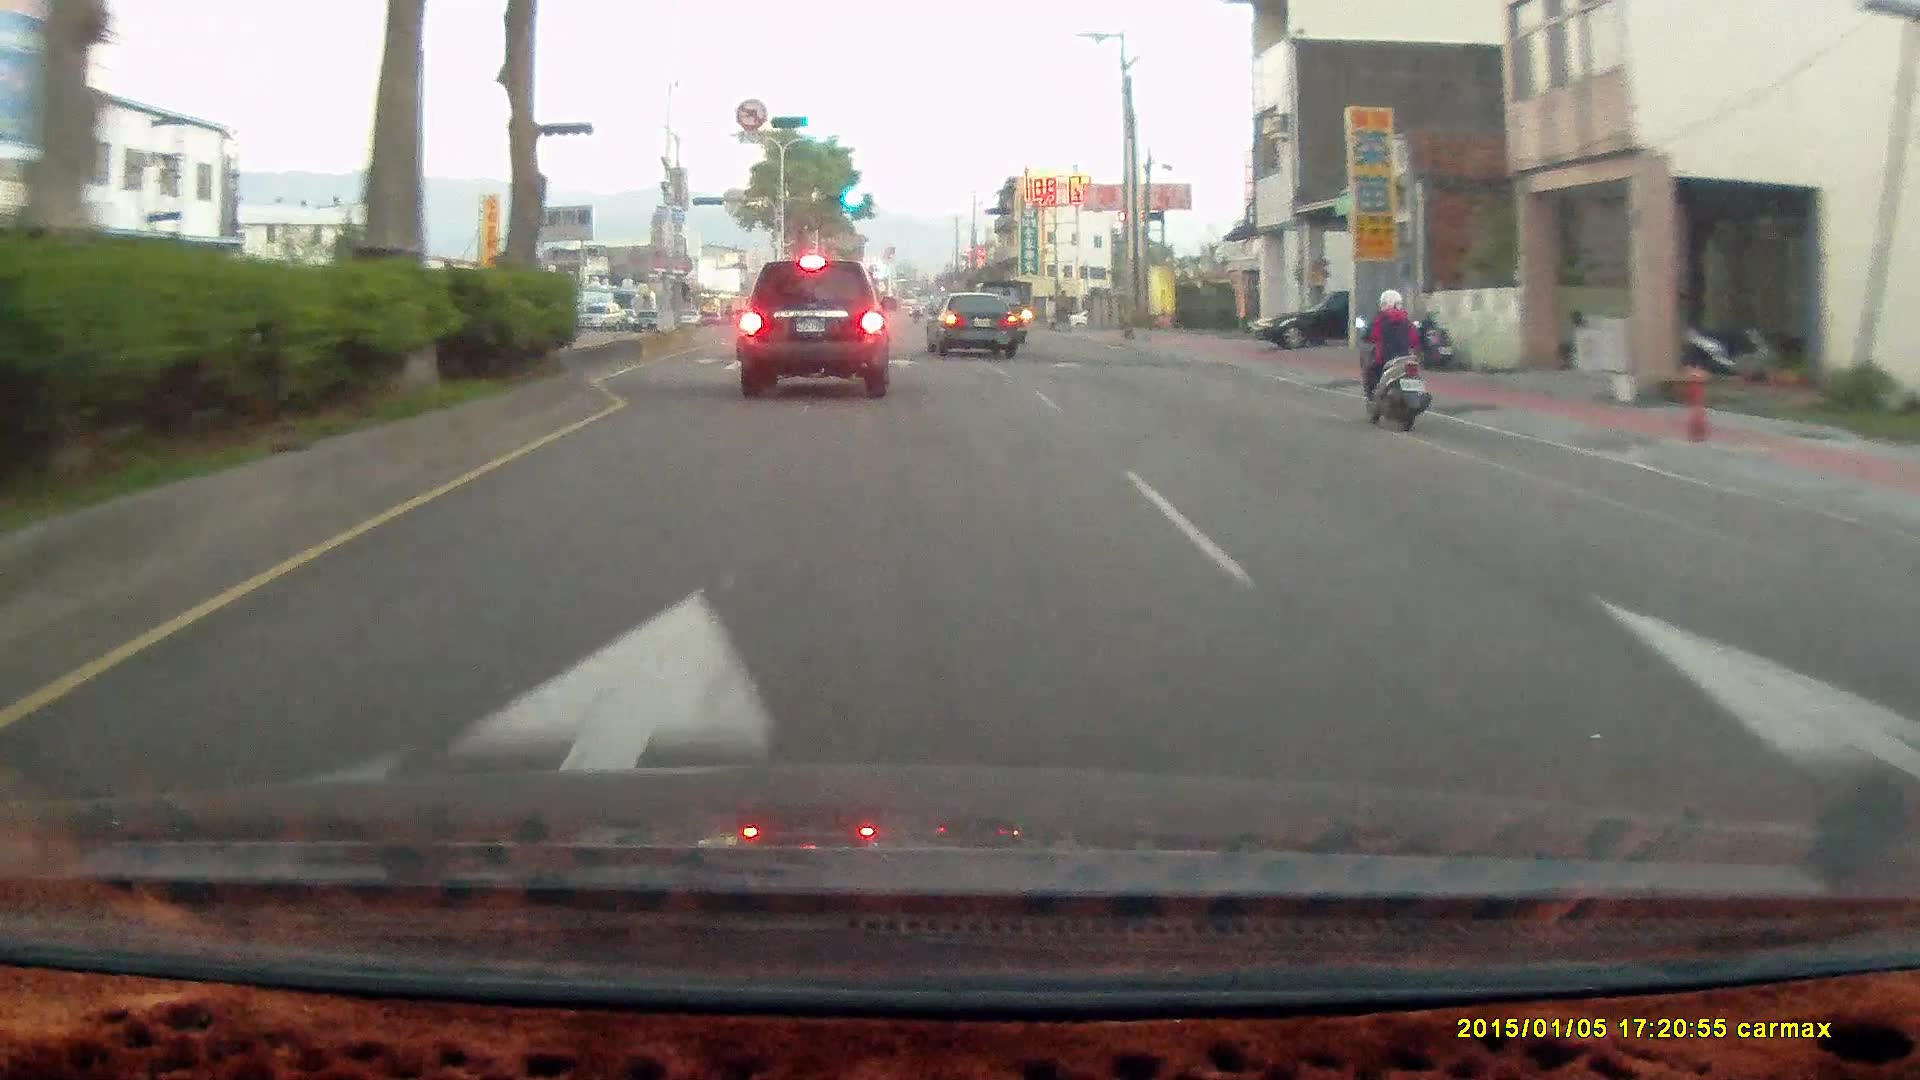rider: (1348, 275, 1444, 441), (1352, 286, 1432, 431)
vehicle: (729, 261, 889, 407), (739, 261, 895, 397), (1252, 289, 1431, 348), (1253, 290, 1358, 350), (925, 291, 1016, 357), (928, 293, 1020, 358), (580, 302, 622, 332)
